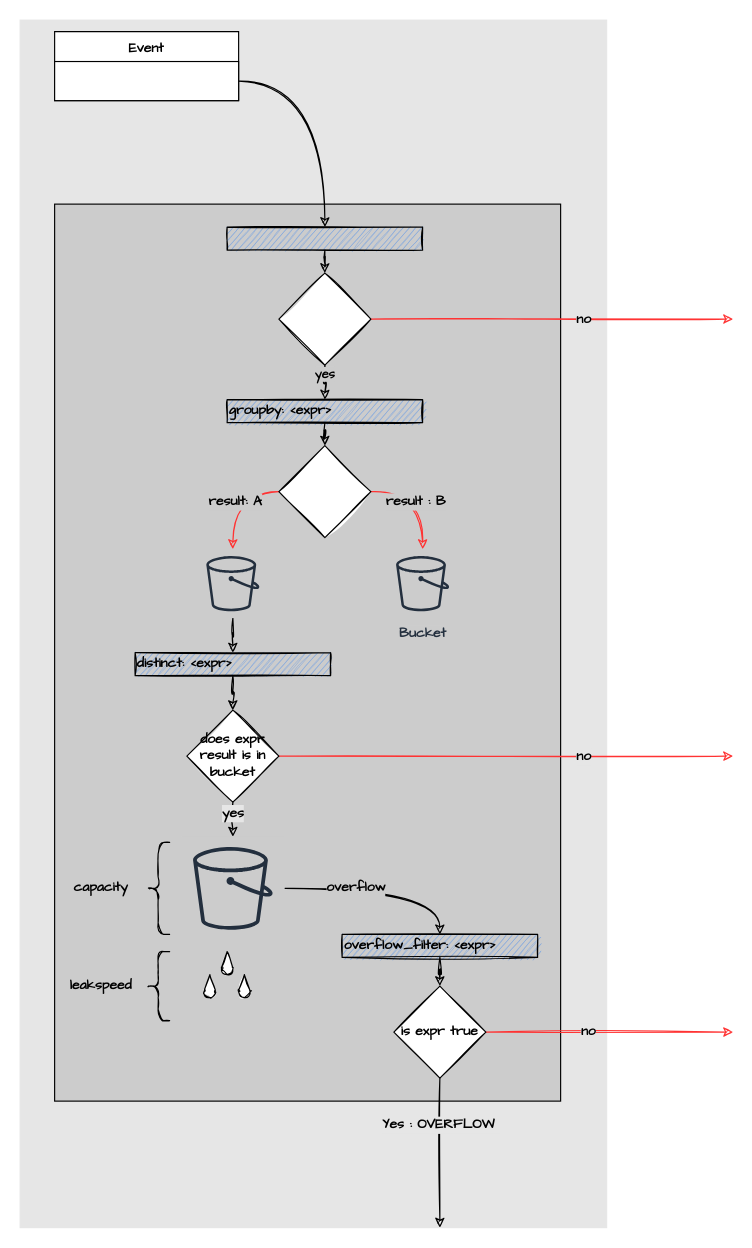
This 752x1248 diagram has some shape labels left out. Each missing label, with the centre of its shape:
"compute expr result" goes at point 324,491.
"filter match" goes at point 324,318.
"filter: <expr>" goes at point 324,238.
"log_type: ssh_failed_auth ..." goes at point 146,80.
